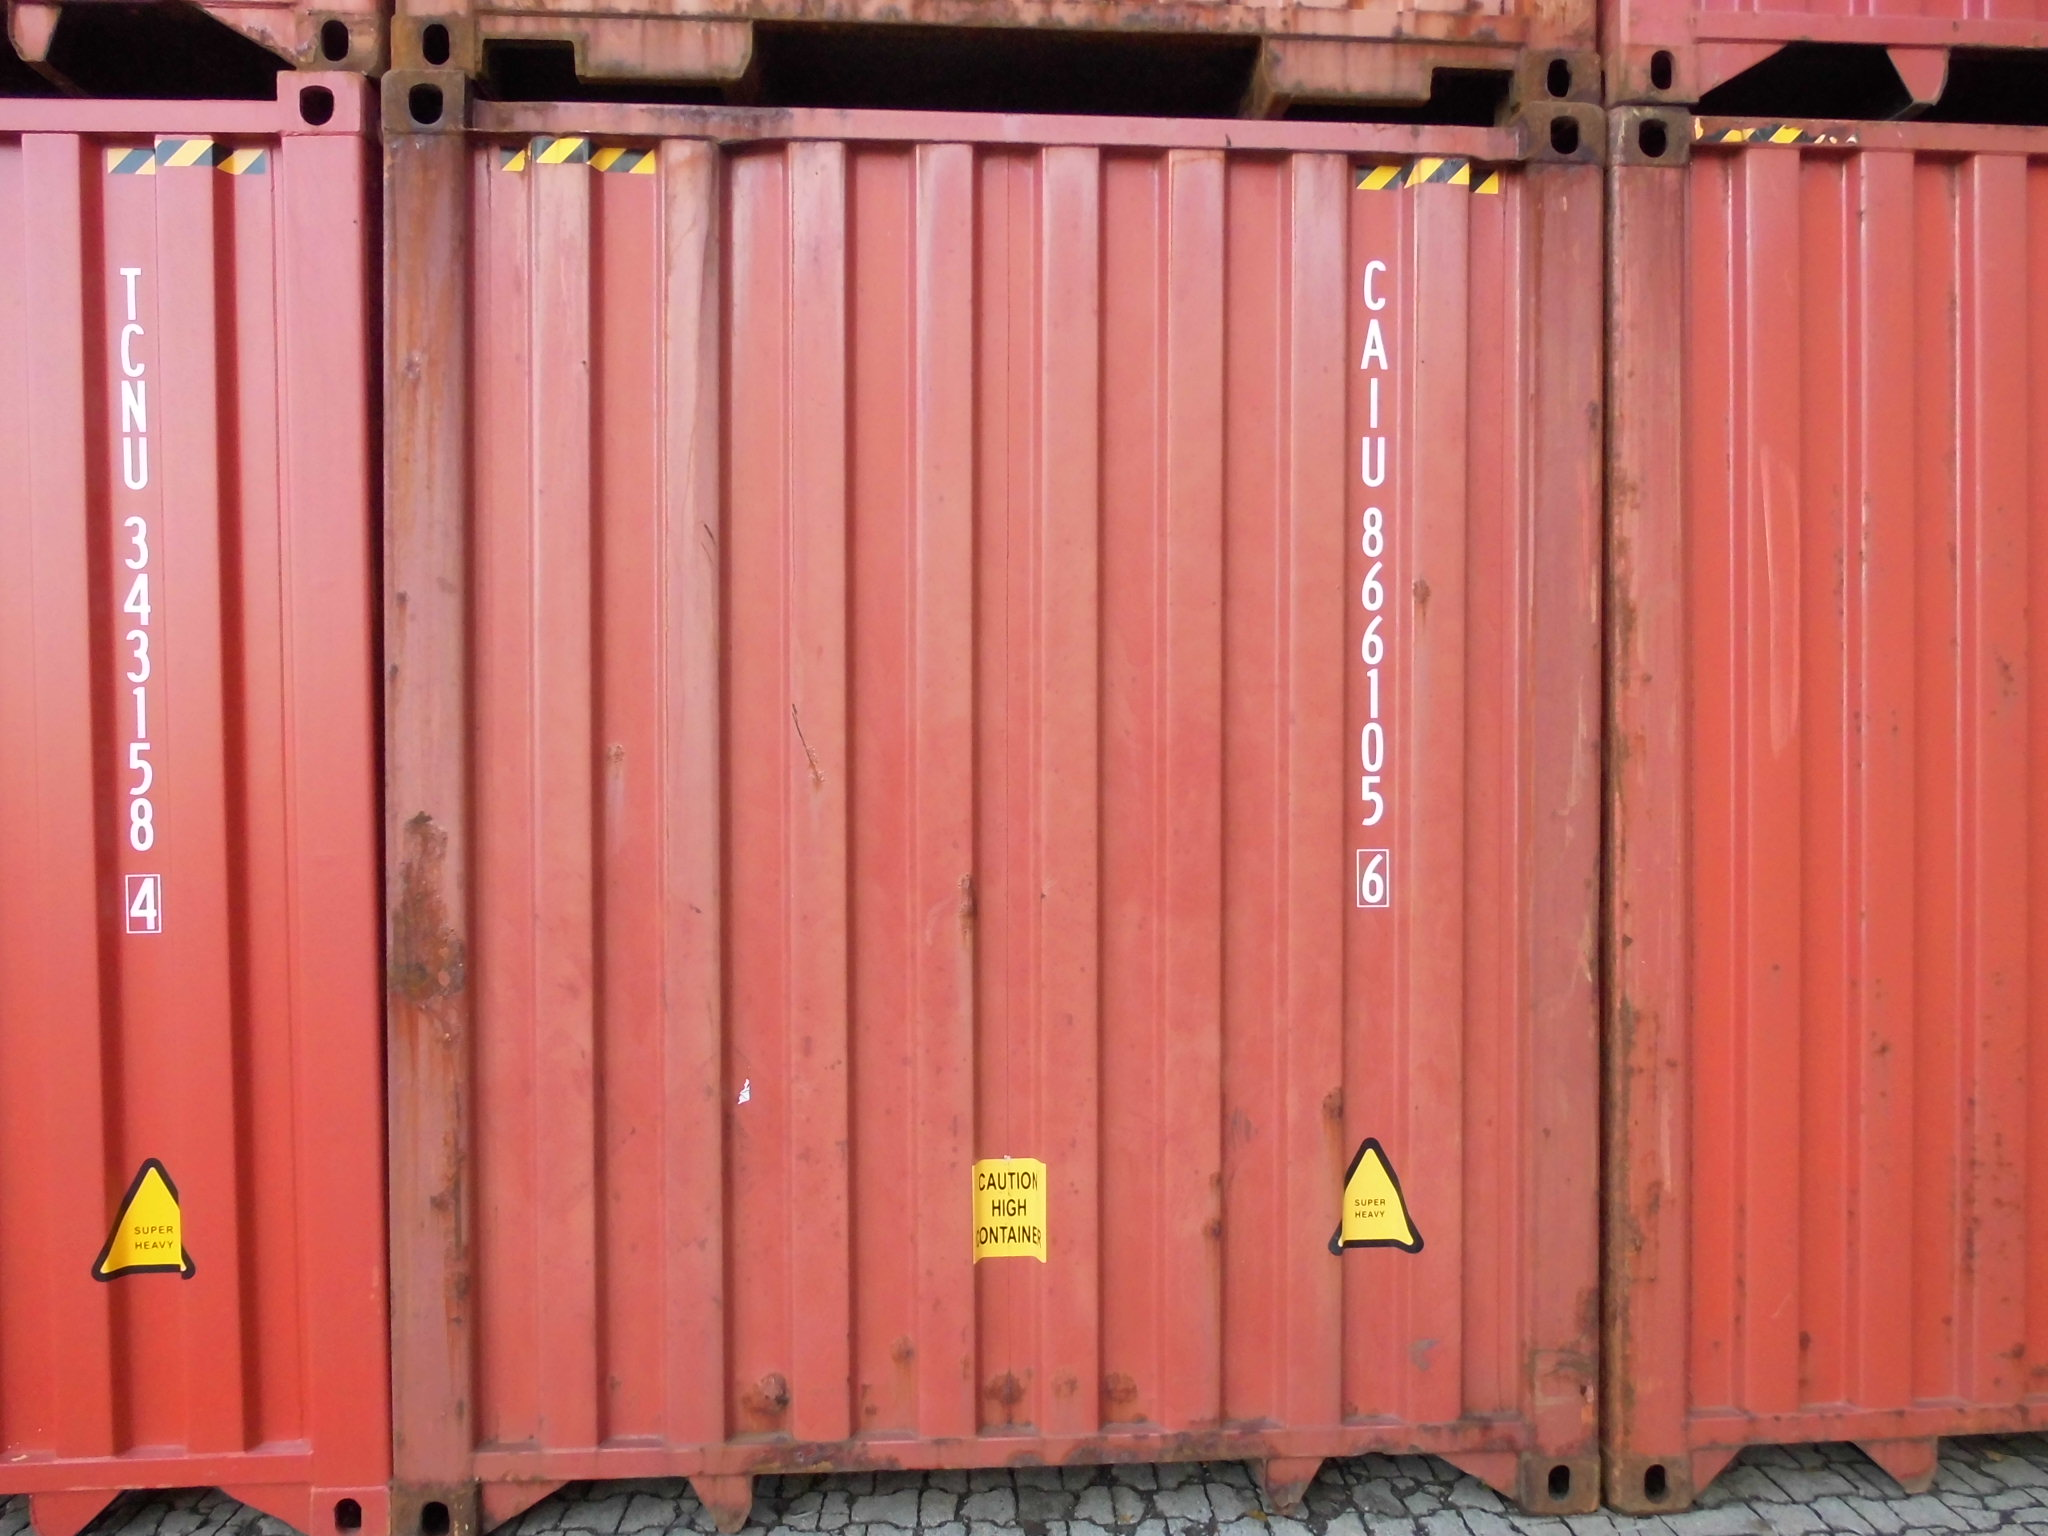container_no_door: (385, 65, 1613, 1523)
